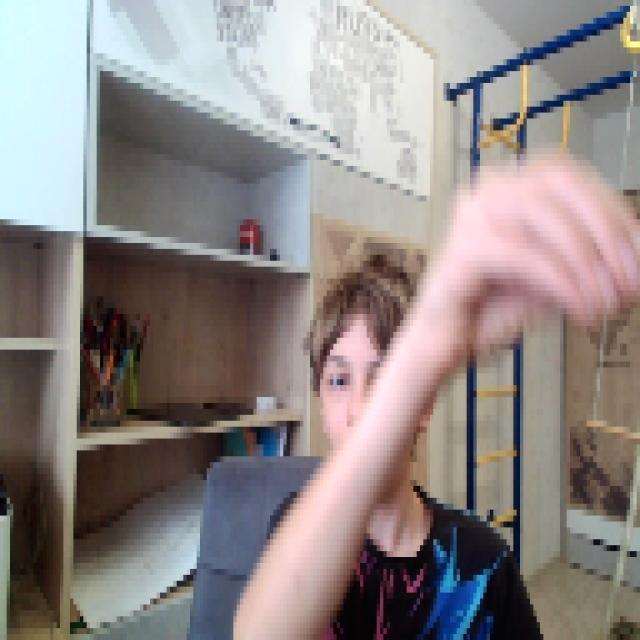left_click: (453, 136, 637, 338)
